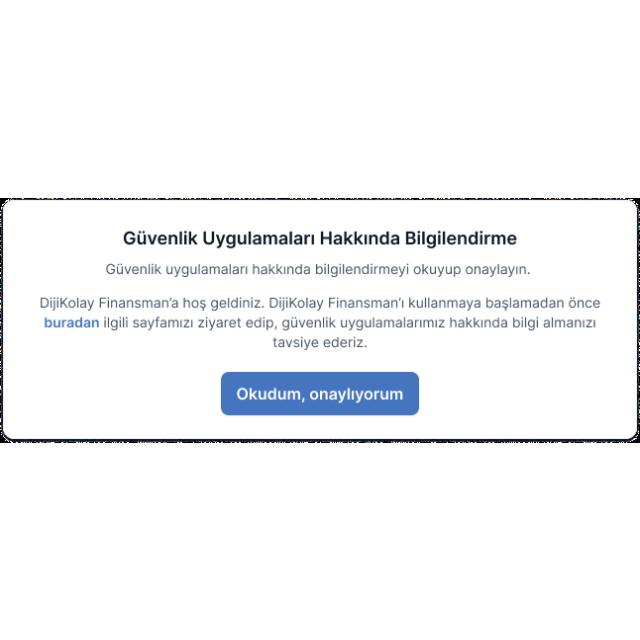QLabel: (34, 290, 606, 310), (103, 260, 534, 280), (101, 314, 598, 330), (120, 228, 520, 246), (233, 382, 405, 406), (270, 336, 368, 352), (42, 316, 100, 328)
VBtn: (220, 370, 420, 414)
VCard: (4, 200, 640, 442)
